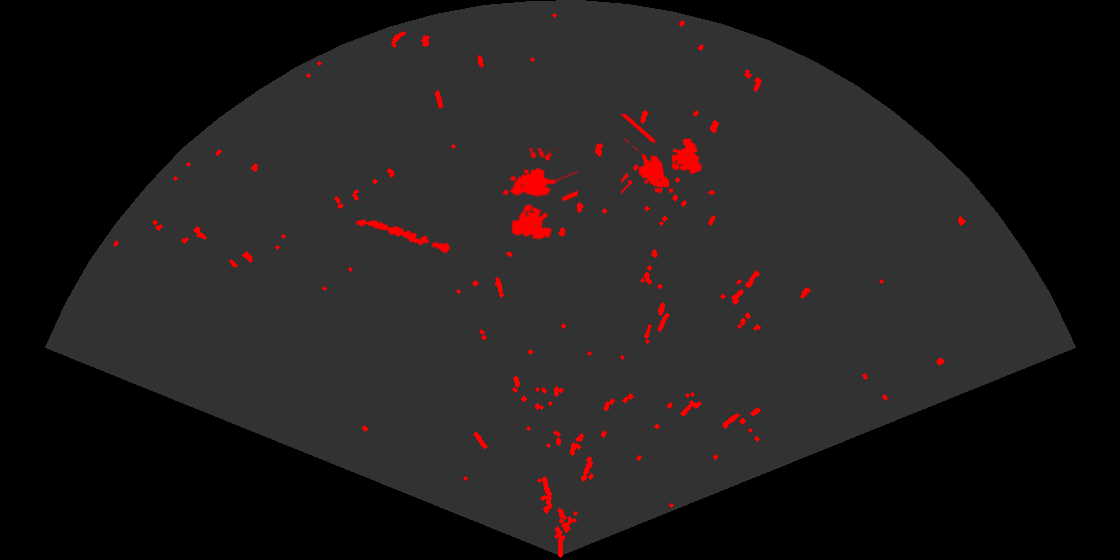cage: (501, 148, 578, 241), (621, 114, 703, 196)
chain: (354, 218, 452, 255)
